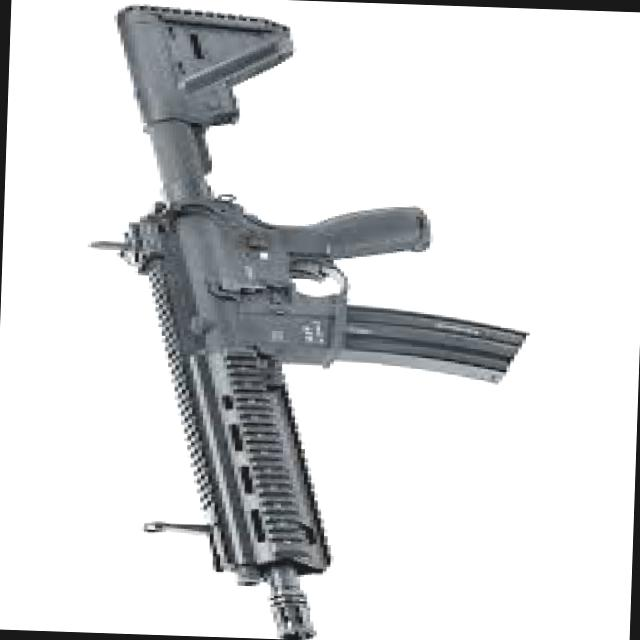long weapon: (56, 4, 528, 633)
